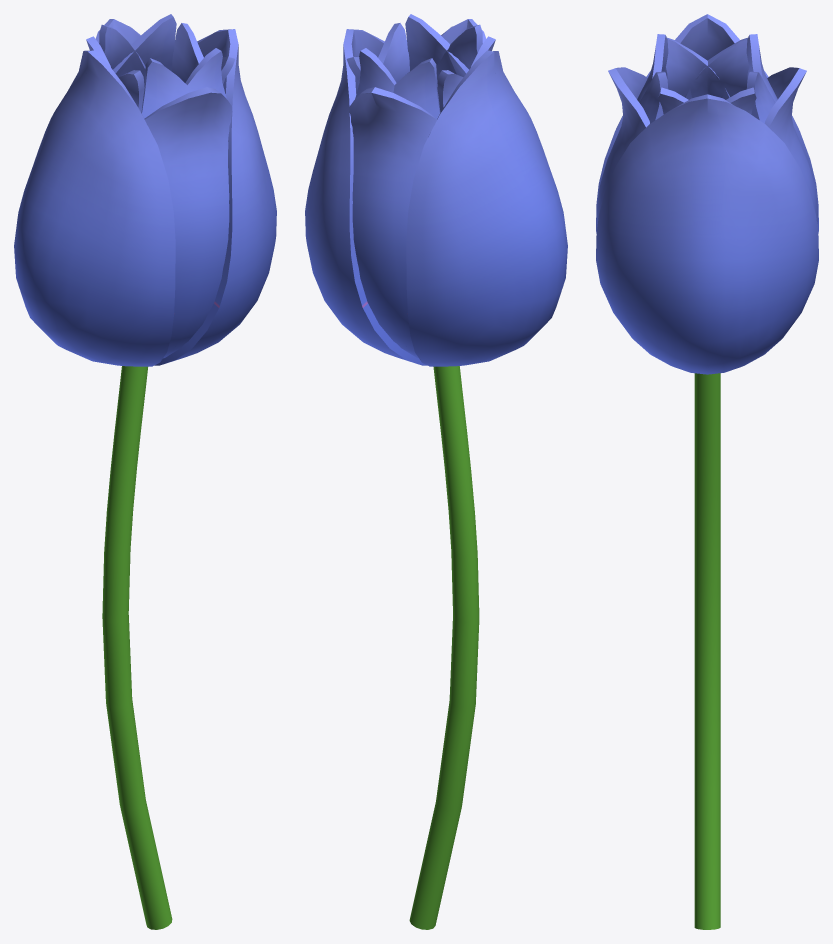
File: Tulip.fbx
The picture shows the model from 3 angles, left to right: view 1: azimuth 30°, elevation 25°; view 2: azimuth 150°, elevation 25°; view 3: azimuth 270°, elevation 25°; orthographic projection.
Parts seen in each view (by area): view 1: Tulip; view 2: Tulip; view 3: Tulip.
Boxes of the visible parts, x1,y1,x2,y2 form: Tulip: [14, 14, 276, 929]; Tulip: [305, 14, 567, 929]; Tulip: [596, 14, 818, 929].
Size of the model in its own units: 97.06 by 337 by 77.21.
1 material, 1 textured.
